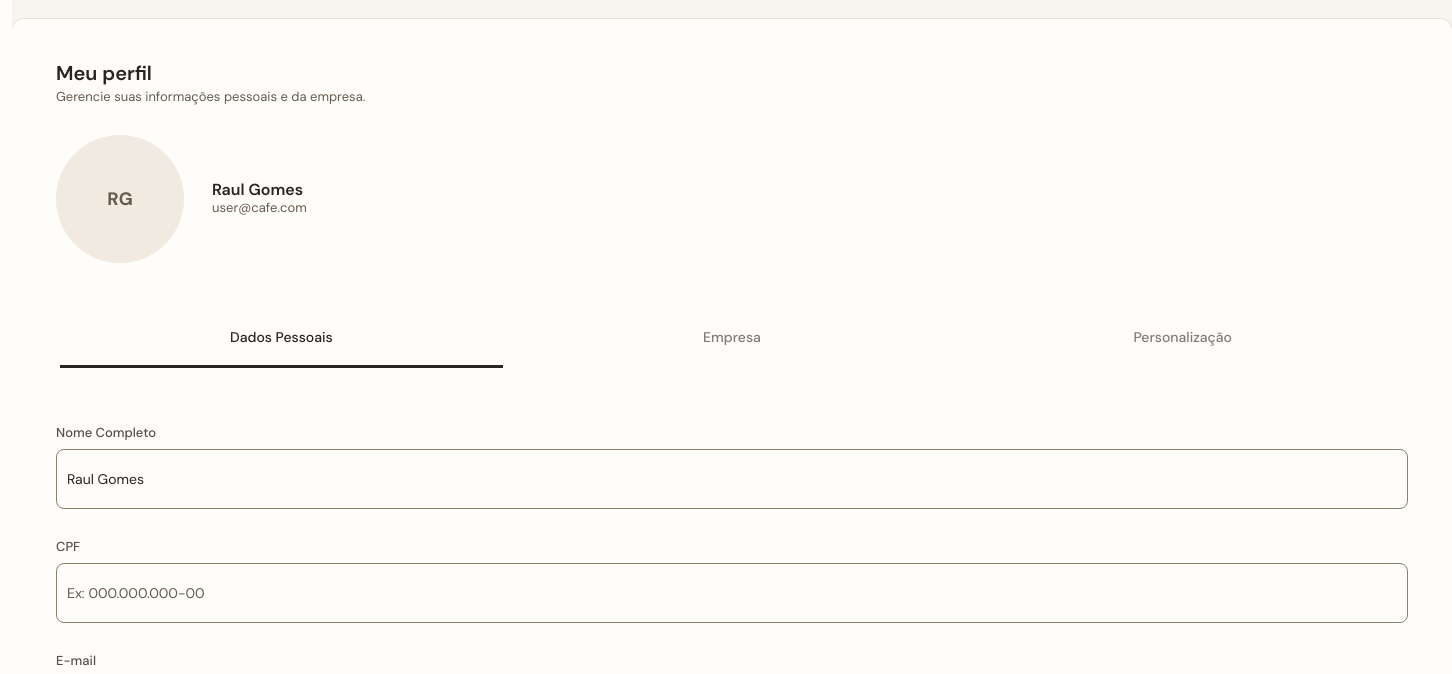
Test: PerfilPage › autofills address data from CEP lookup on blur (aba Empresa)
Check: the field showing "Raul Gomes" below "Nome Completo" is shown, box x1=56 y1=449 x2=1408 y2=509
Click the tab "Empresa" at (732, 337), box x1=510 y1=311 x2=954 y2=364
(page scrolled)
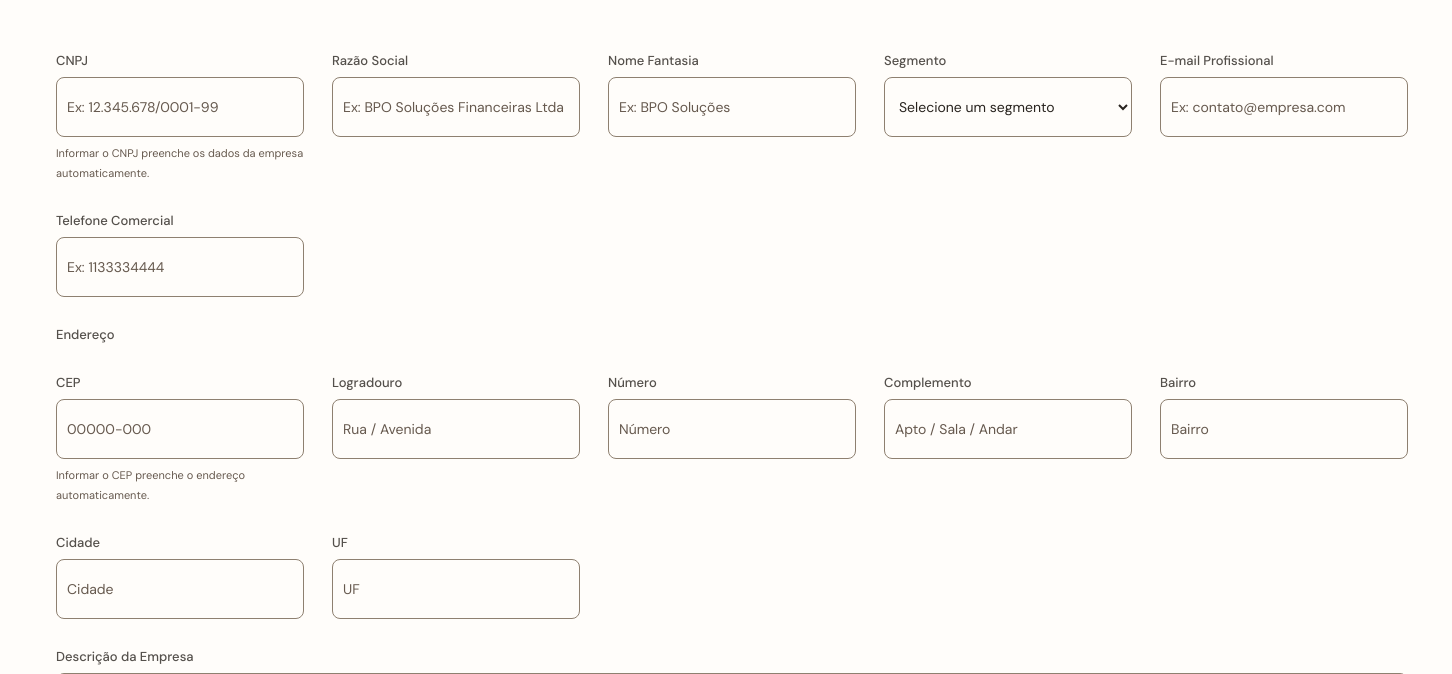
Type "01310100" into the field with placeholder "00000-000" at (180, 429), box x1=56 y1=399 x2=304 y2=459
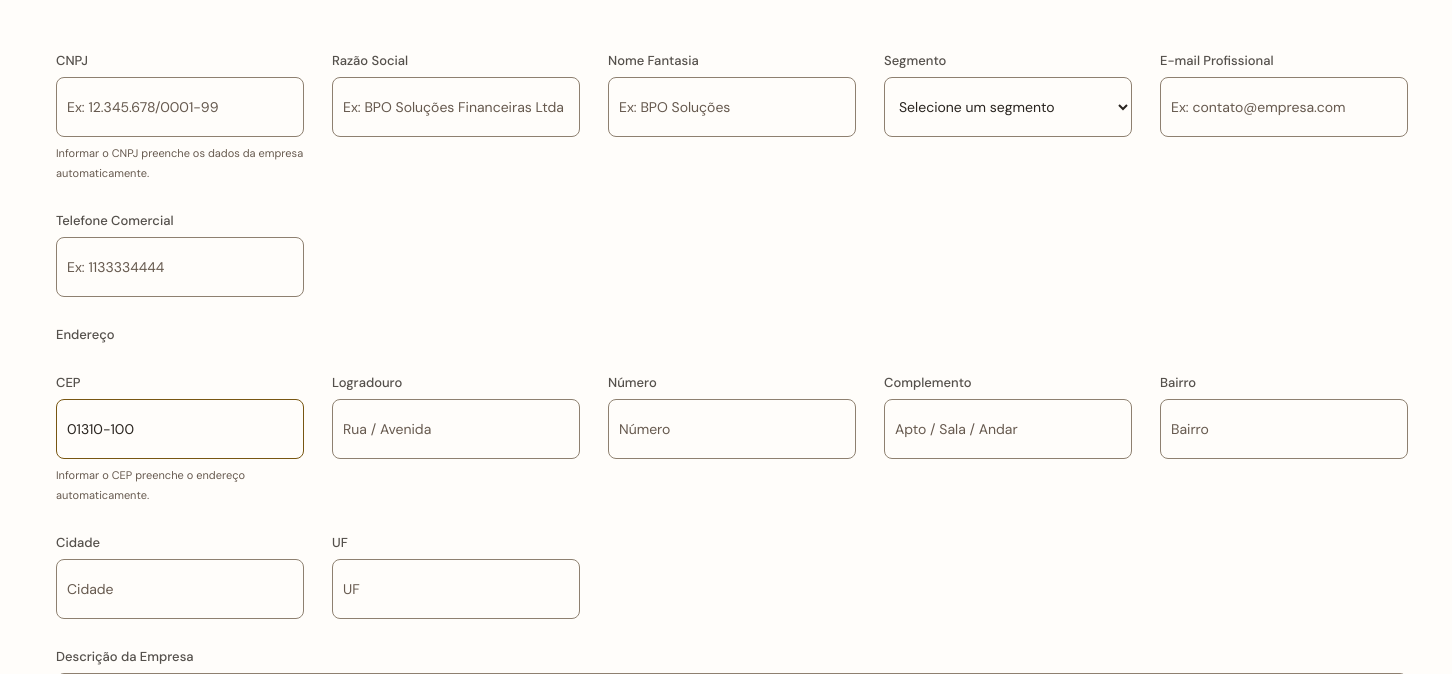
Leave the field with placeholder "00000-000", box x1=56 y1=399 x2=304 y2=459
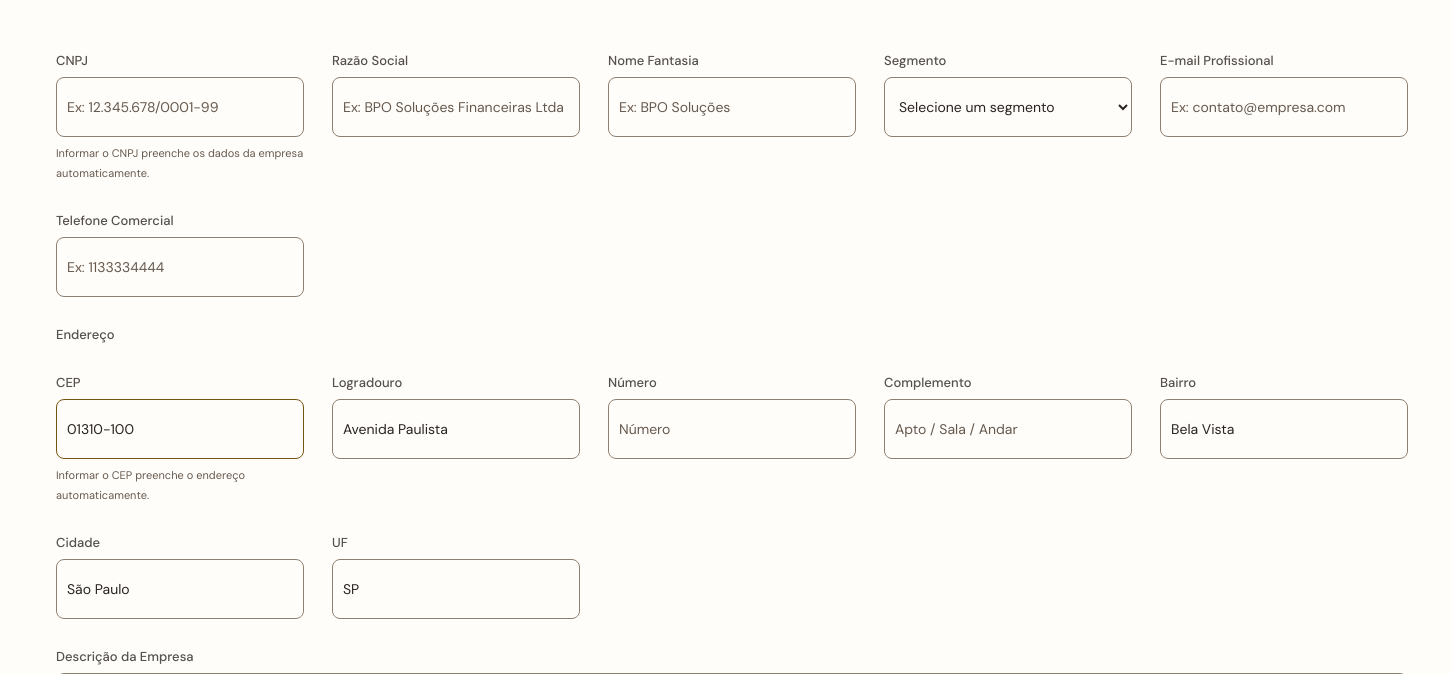
Check: the field with placeholder "Rua / Avenida" below "Logradouro" holds "Avenida Paulista", box x1=332 y1=399 x2=580 y2=459
Check: the field with placeholder "Bairro" below "Bairro" holds "Bela Vista", box x1=1160 y1=399 x2=1408 y2=459
Check: the field with placeholder "Cidade" below "Cidade" holds "São Paulo", box x1=56 y1=559 x2=304 y2=619
